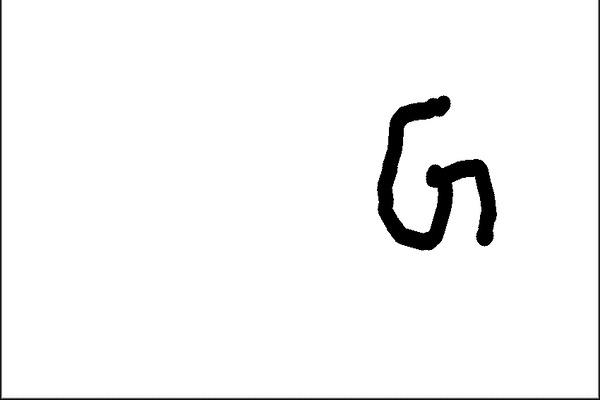G: (371, 91, 505, 251)
